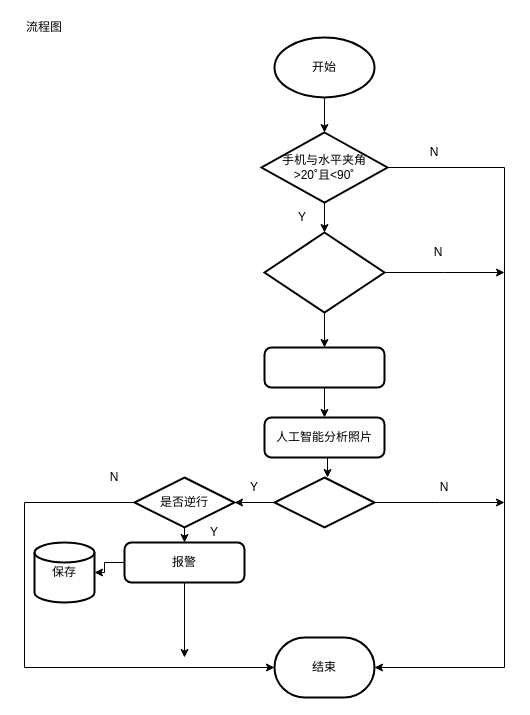
This 530x715 diagram has some shape labels left out. The shapes that lost their labels are listed below. From the top down, each one's centre as x and y in pixels, then its label:
At (324,272): "移速>5km/h".
At (324,367): "上传照片".
At (324,502): "是否户外".
